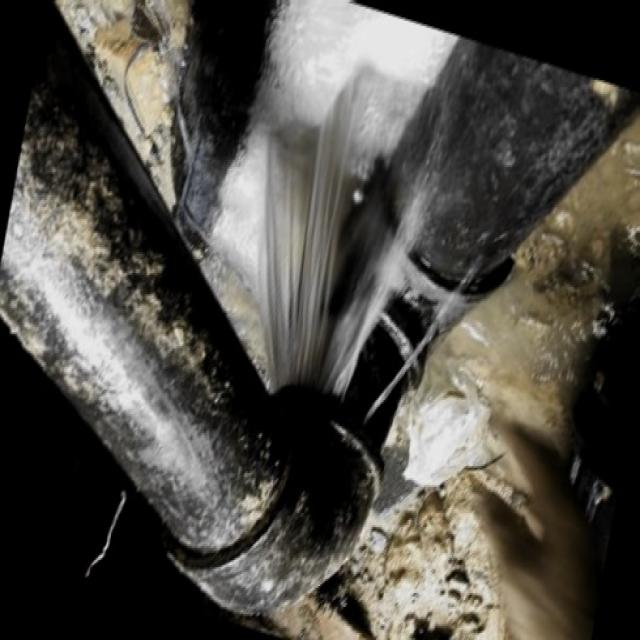Leak: (227, 193, 443, 484)
